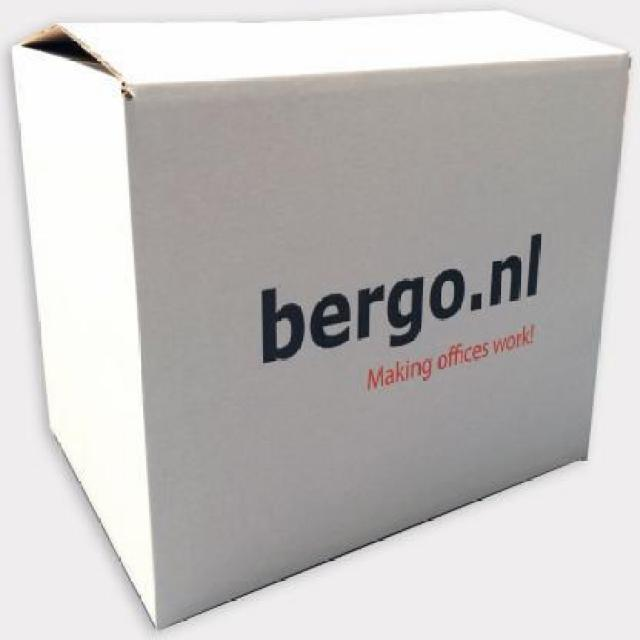package: (11, 9, 628, 631)
